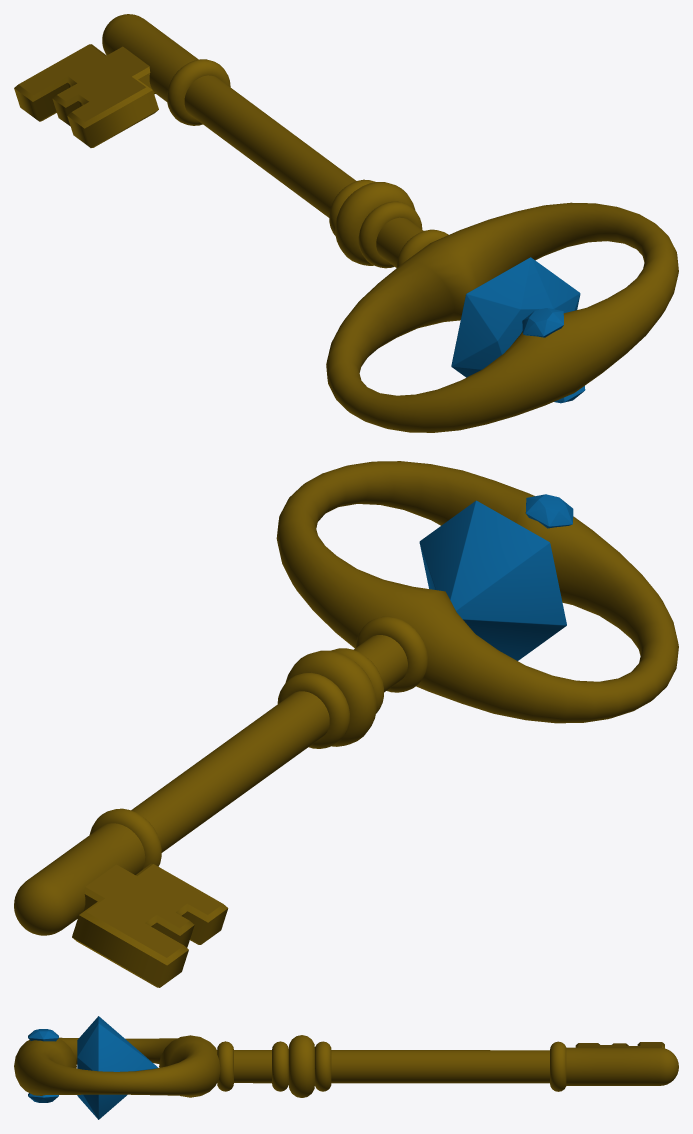
Rendered from anahtar_anim.fbx.
3 renders of one model, top to bottom at view 1: azimuth 30°, elevation 25°; view 2: azimuth 150°, elevation 25°; view 3: azimuth 270°, elevation 25°, orthographic. The views are drawn at different scales.
Visible parts, largest first — view 1: anahtar; view 2: anahtar; view 3: anahtar.
Boxes of the visible parts, <box> form: anahtar: <box>14,14,678,432</box>; anahtar: <box>14,461,678,987</box>; anahtar: <box>14,1016,678,1119</box>.
Size of the model in its own units: 0.7506 by 0.314 by 1.91.
